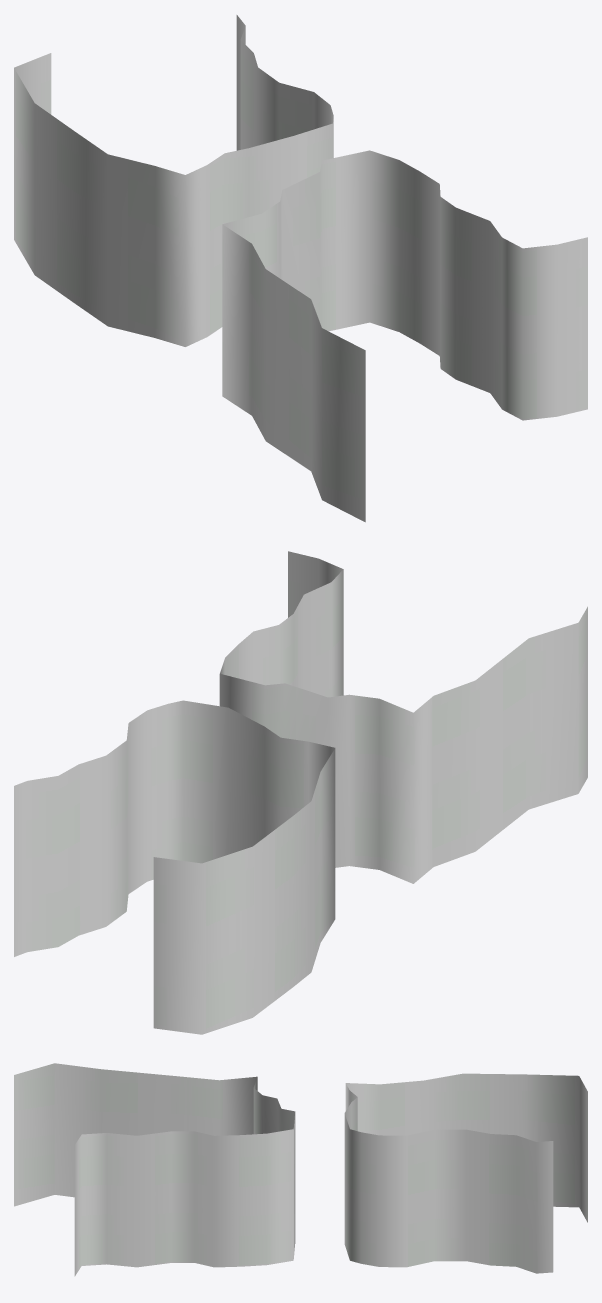
Rendered from Q514_ALPHA_BRIDGE.glb.
The picture shows the model from 3 angles, top to bottom: view 1: azimuth 30°, elevation 25°; view 2: azimuth 150°, elevation 25°; view 3: azimuth 270°, elevation 25°; orthographic projection. The views are drawn at different scales.
Visible parts, largest first — view 1: Mesh; view 2: Mesh; view 3: Mesh.
Boxes of the visible parts, box(x1,y1,x2,y2) form: Mesh: box(14, 15, 587, 522); Mesh: box(14, 551, 587, 1034); Mesh: box(14, 1063, 587, 1276).
Size of the model in its own units: 12.17 by 8.24 by 28.37.
1 material, 1 textured.
